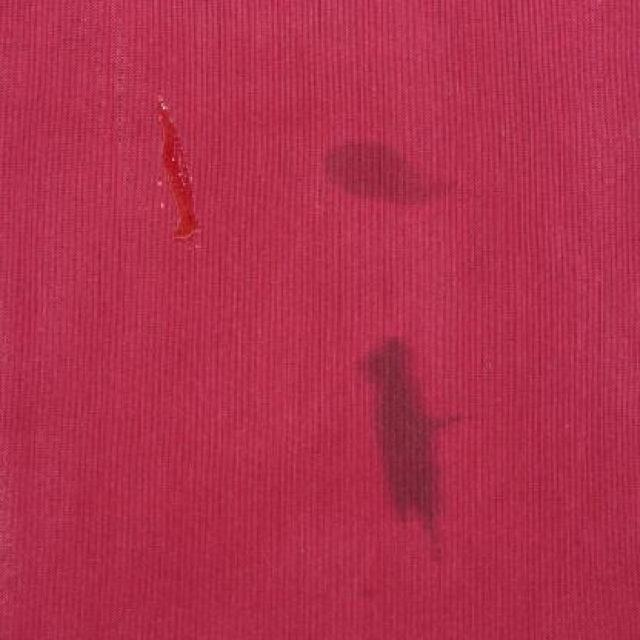Hole: (326, 327, 497, 552), (286, 110, 492, 230), (127, 66, 229, 282)
